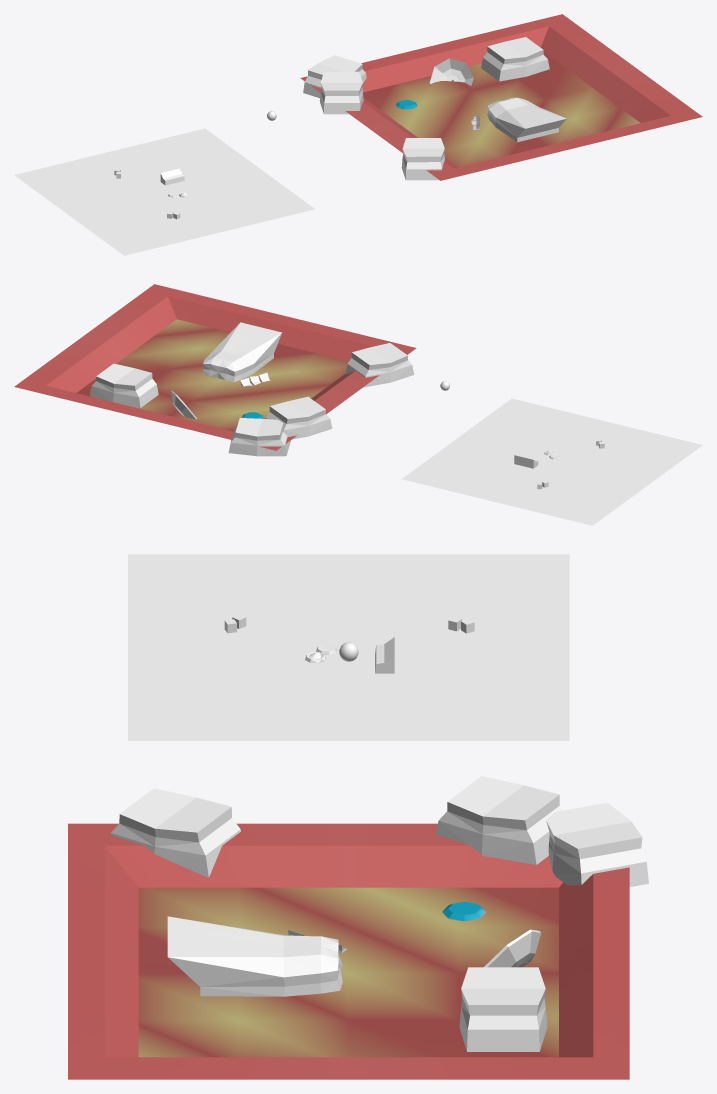
Rendered from Cutscene_Open_Set.fbx.
The picture shows the model from 3 angles, top to bottom: view 1: azimuth 30°, elevation 25°; view 2: azimuth 150°, elevation 25°; view 3: azimuth 270°, elevation 25°; orthographic projection. The views are drawn at different scales.
Visible parts, largest first — view 1: Decor Rock001; view 2: Decor Rock001; view 3: Decor Rock001.
Part boxes in pixels (x1,y1,x2,y2): Decor Rock001: (14, 14, 702, 255); Decor Rock001: (14, 284, 702, 525); Decor Rock001: (68, 554, 648, 1079).
Size of the model in its own units: 13268 by 1525 by 5924.
